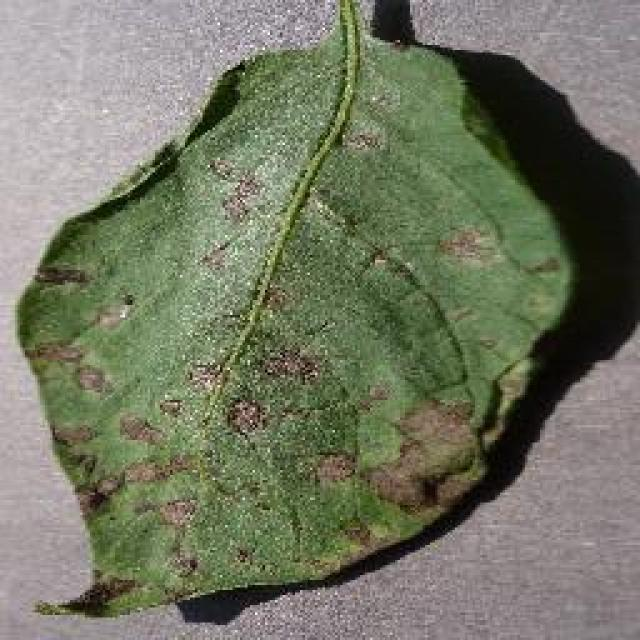Potato___Early_blight: (11, 0, 584, 623)
